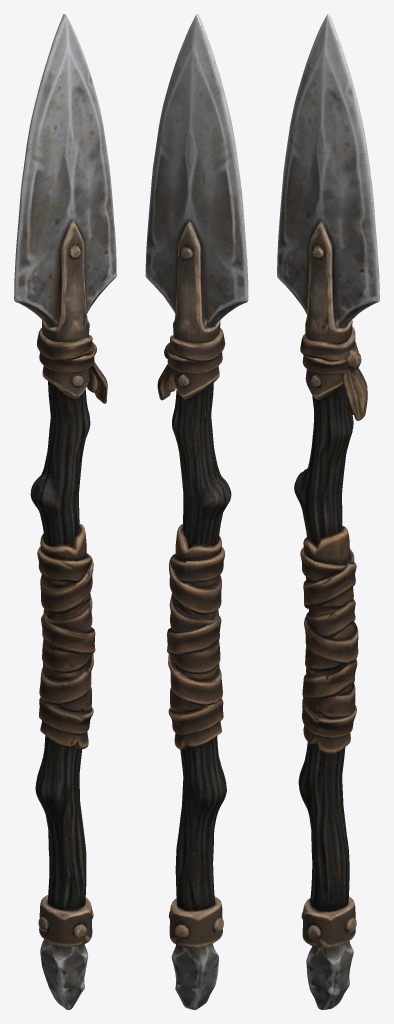
File: short_spear.glb
The picture shows the model from 3 angles, left to right: view 1: azimuth 30°, elevation 25°; view 2: azimuth 150°, elevation 25°; view 3: azimuth 330°, elevation 25°; orthographic projection.
Visible parts, largest first — view 1: Mesh_0; view 2: Mesh_0; view 3: Mesh_0.
Boxes of the visible parts, bbox=[...] form: Mesh_0: bbox=[14, 14, 116, 1009]; Mesh_0: bbox=[145, 14, 248, 1009]; Mesh_0: bbox=[277, 14, 379, 1009].
Size of the model in its own units: 0.1832 by 1.7 by 0.1.
1 material, 1 textured.
